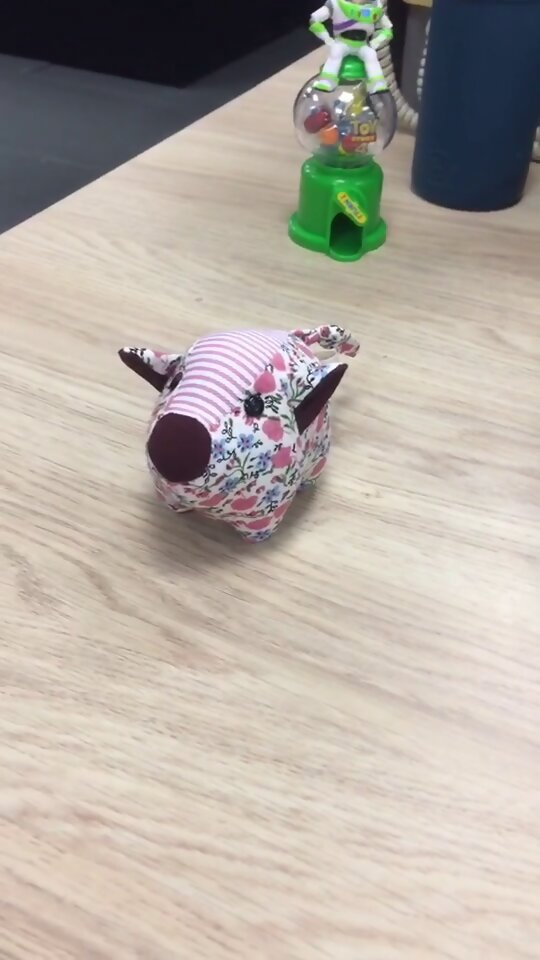pig: (113, 318, 364, 545)
